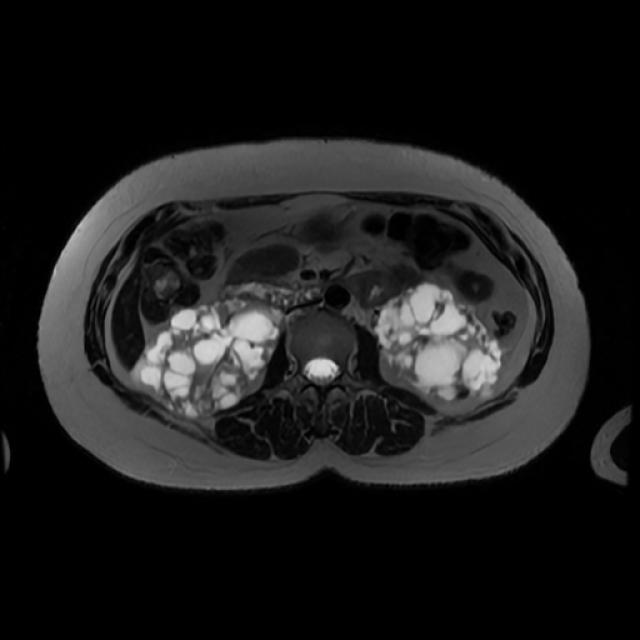sag: (133, 297, 284, 420)
sol: (374, 281, 501, 400)
